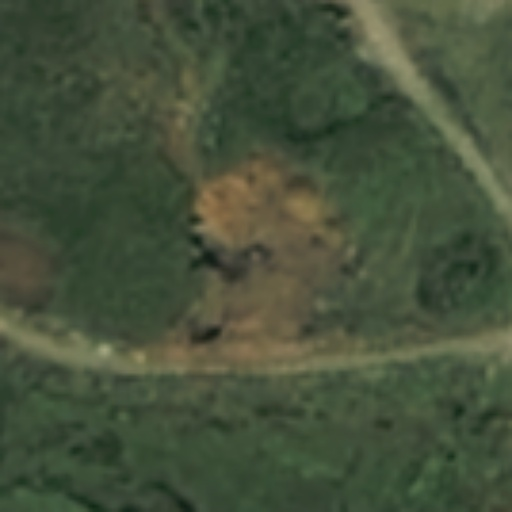landslide: (192, 156, 340, 354)
